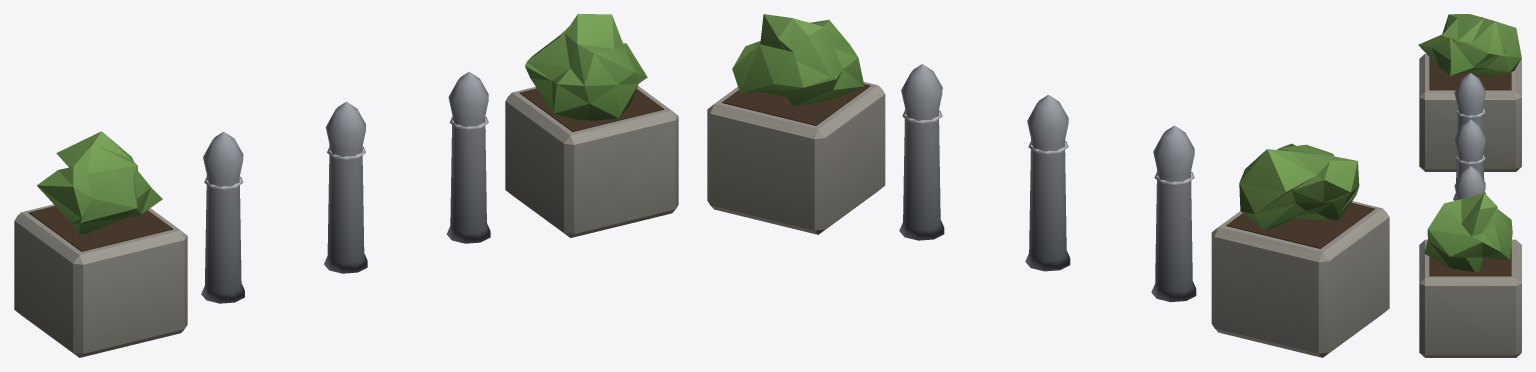
Rendered from security-bollard.glb.
3 renders of one model, left to right at view 1: azimuth 30°, elevation 25°; view 2: azimuth 150°, elevation 25°; view 3: azimuth 270°, elevation 25°, orthographic. The views are drawn at different scales.
Parts seen in each view (by area): view 1: security_bollard_01; view 2: security_bollard_01; view 3: security_bollard_01.
Part boxes in pixels (left/top/right/bottom): security_bollard_01: left=14, top=14, right=678, bottom=357; security_bollard_01: left=707, top=14, right=1389, bottom=357; security_bollard_01: left=1418, top=14, right=1521, bottom=357.
Size of the model in its own units: 3.7 by 1.08 by 0.7078.
